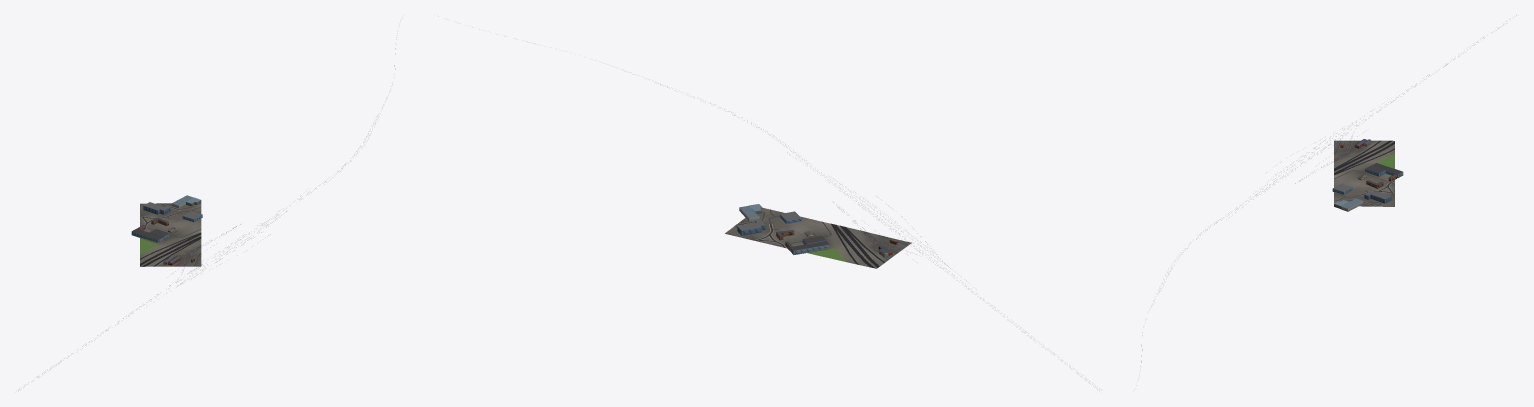
Rendered from city_11_10.glb.
The picture shows the model from 3 angles, left to right: view 1: azimuth 90°, elevation 25°; view 2: azimuth 150°, elevation 25°; view 3: azimuth 270°, elevation 25°; orthographic projection. The views are drawn at different scales.
Parts seen in each view (by area): view 1: terrain_11_10, buildings_11_10, roads_11_10, rail_11_10; view 2: terrain_11_10, buildings_11_10, roads_11_10; view 3: terrain_11_10, buildings_11_10, roads_11_10, rail_11_10.
Part boxes in pixels (x1,y1,x2,y2): terrain_11_10: (140,203,201,266); buildings_11_10: (131,195,202,265); roads_11_10: (140,203,201,266); rail_11_10: (18,19,401,391); terrain_11_10: (725,207,909,268); buildings_11_10: (737,204,897,257); roads_11_10: (734,209,907,268); terrain_11_10: (1334,140,1394,206); buildings_11_10: (1332,139,1403,211); roads_11_10: (1334,140,1394,206); rail_11_10: (1136,15,1516,385).
Size of the model in its own units: 2931 by 20.29 by 1269.
Materials: 7 (2 with a texture image).
